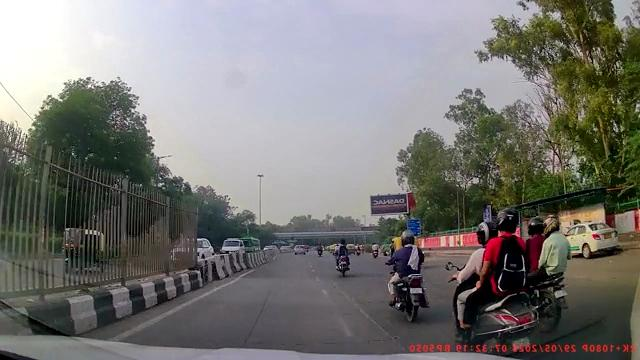motorcycle_with_helmet: (385, 229, 428, 323)
passenger_with_helmet: (452, 209, 533, 352), (524, 216, 569, 331)
